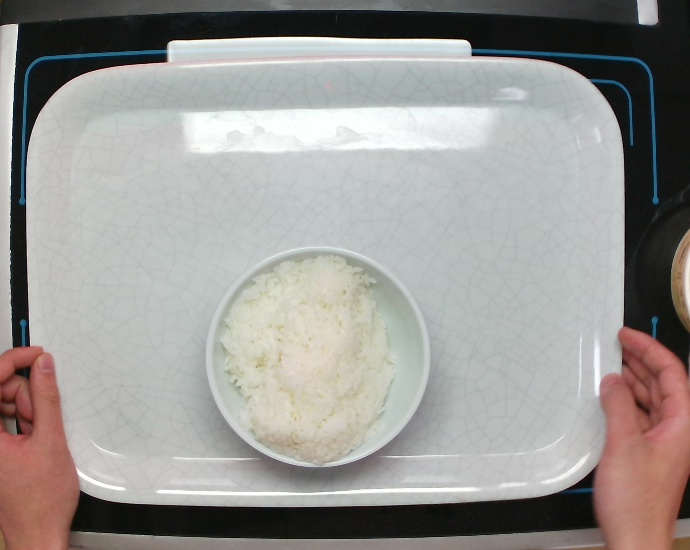JYsf-Fan_Wan: (203, 244, 432, 470)
